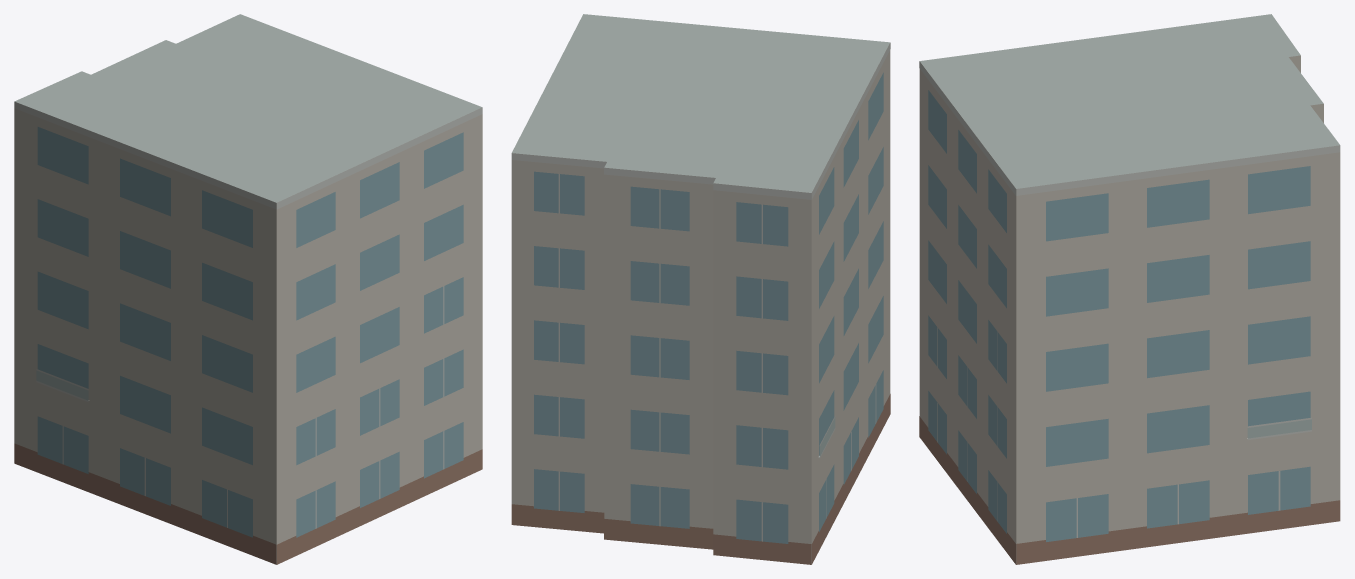
File: survey-upis-32940252.glb
3 renders of one model, left to right at view 1: azimuth 30°, elevation 25°; view 2: azimuth 150°, elevation 25°; view 3: azimuth 270°, elevation 25°, orthographic. The views are drawn at different scales.
Parts seen in each view (by area): view 1: survey-upis-32940252.tmp; view 2: survey-upis-32940252.tmp; view 3: survey-upis-32940252.tmp.
Part boxes in pixels (left/top/right/bottom): survey-upis-32940252.tmp: left=14, top=14, right=482, bottom=564; survey-upis-32940252.tmp: left=511, top=14, right=890, bottom=564; survey-upis-32940252.tmp: left=919, top=14, right=1340, bottom=564.
Size of the model in its own units: 13.09 by 13.1 by 13.31.
